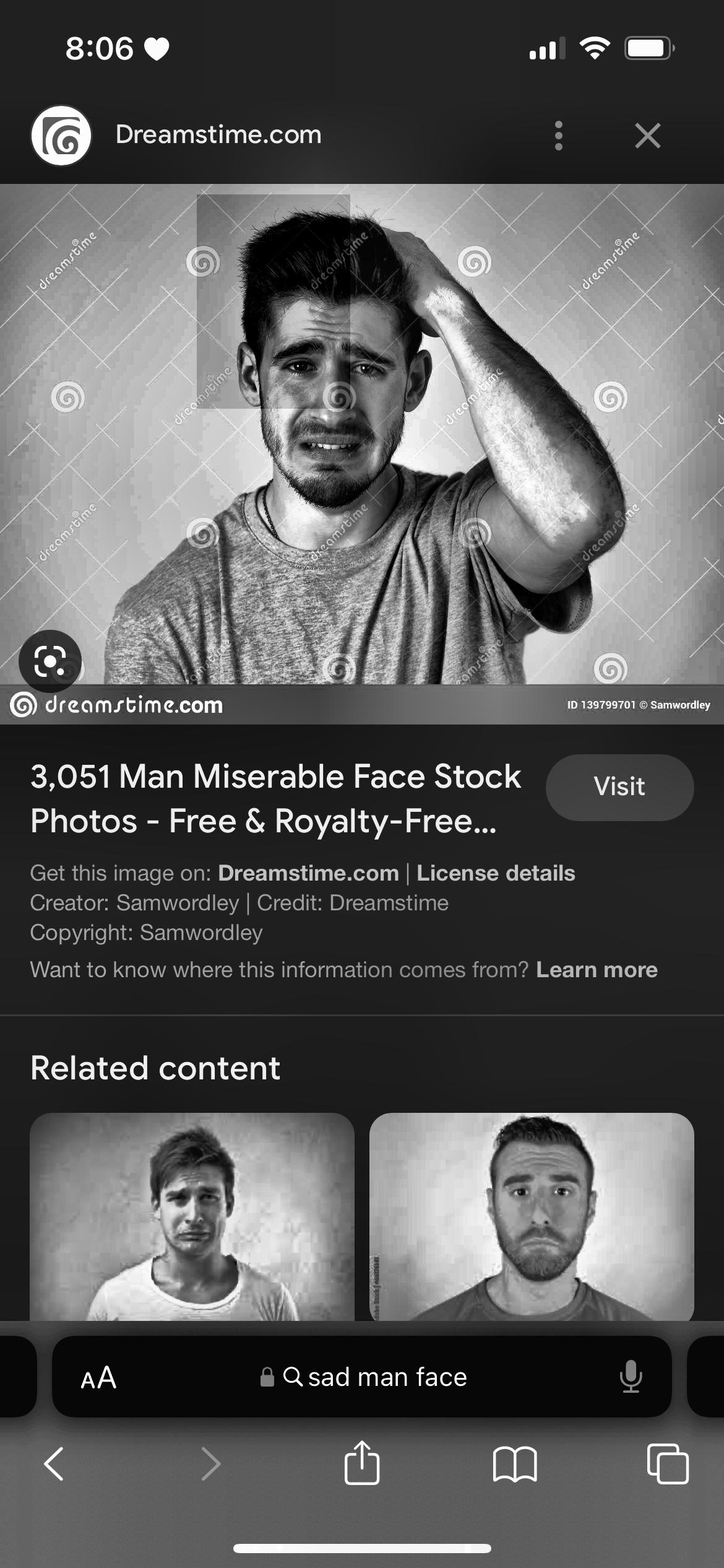sad: (243, 240, 433, 506)
